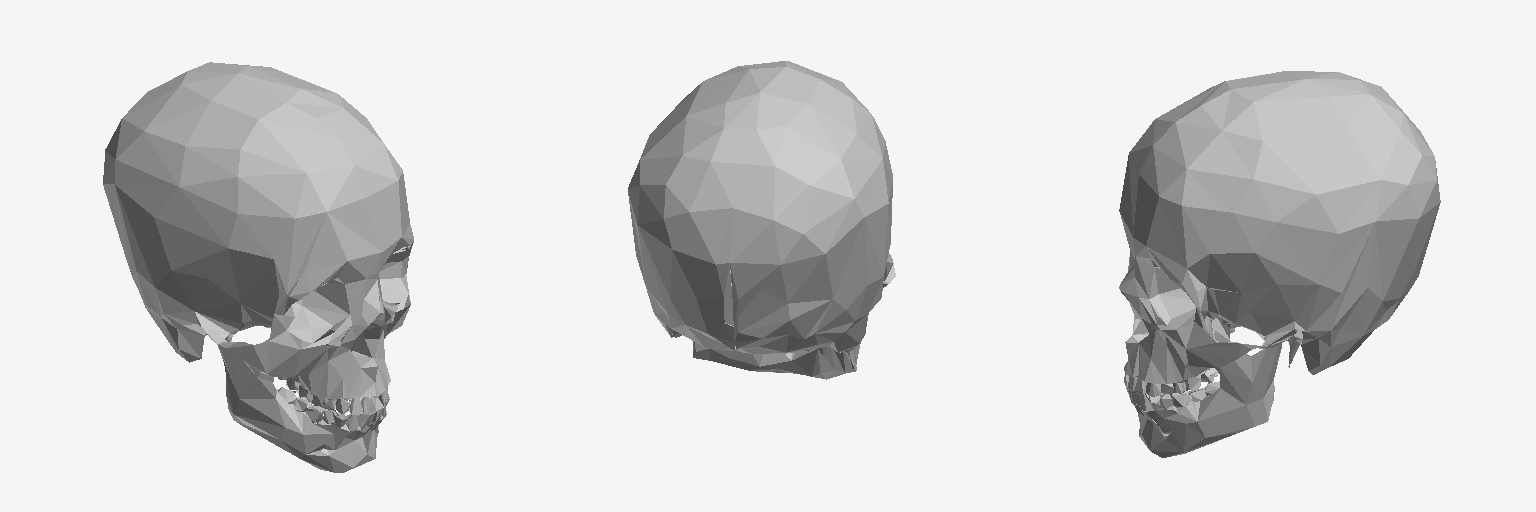
Rendered from medium.obj.
3 renders of one model, left to right at view 1: azimuth 30°, elevation 25°; view 2: azimuth 150°, elevation 25°; view 3: azimuth 270°, elevation 25°, orthographic.
Parts seen in each view (by area): view 1: skull; view 2: skull; view 3: skull.
Part boxes in pixels (x1,y1,x2,y2): skull: (103, 62, 413, 472); skull: (628, 61, 895, 379); skull: (1119, 71, 1440, 457).
Size of the model in its own units: 5.23 by 7.33 by 6.13.